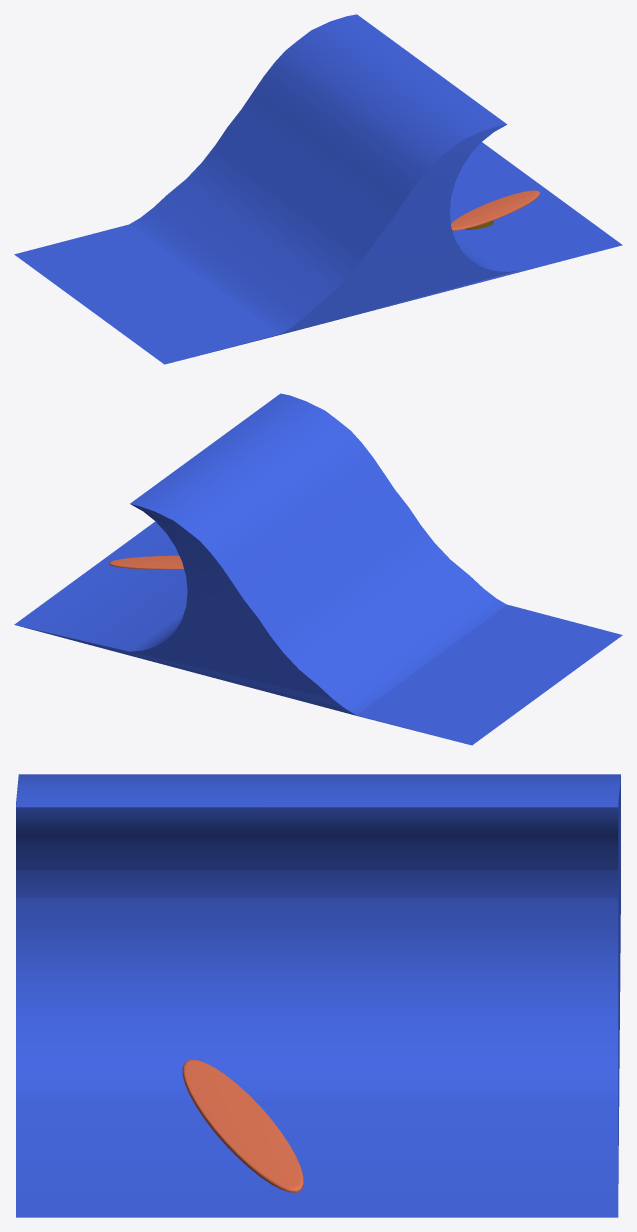
The model's file is wave.glb.
The picture shows the model from 3 angles, top to bottom: view 1: azimuth 30°, elevation 25°; view 2: azimuth 150°, elevation 25°; view 3: azimuth 270°, elevation 25°; orthographic projection. The views are drawn at different scales.
Parts seen in each view (by area): view 1: Cylinder, Circle; view 2: Cylinder, Circle; view 3: Cylinder, Circle.
Boxes of the visible parts, left/top/right/bottom form: Cylinder: left=14, top=14, right=622, bottom=364; Circle: left=451, top=190, right=539, bottom=230; Cylinder: left=14, top=393, right=622, bottom=745; Circle: left=109, top=555, right=184, bottom=569; Cylinder: left=16, top=774, right=620, bottom=1217; Circle: left=182, top=1059, right=303, bottom=1192.
Bounding box in the file's own units: 17.87 × 5.88 × 10.23.
